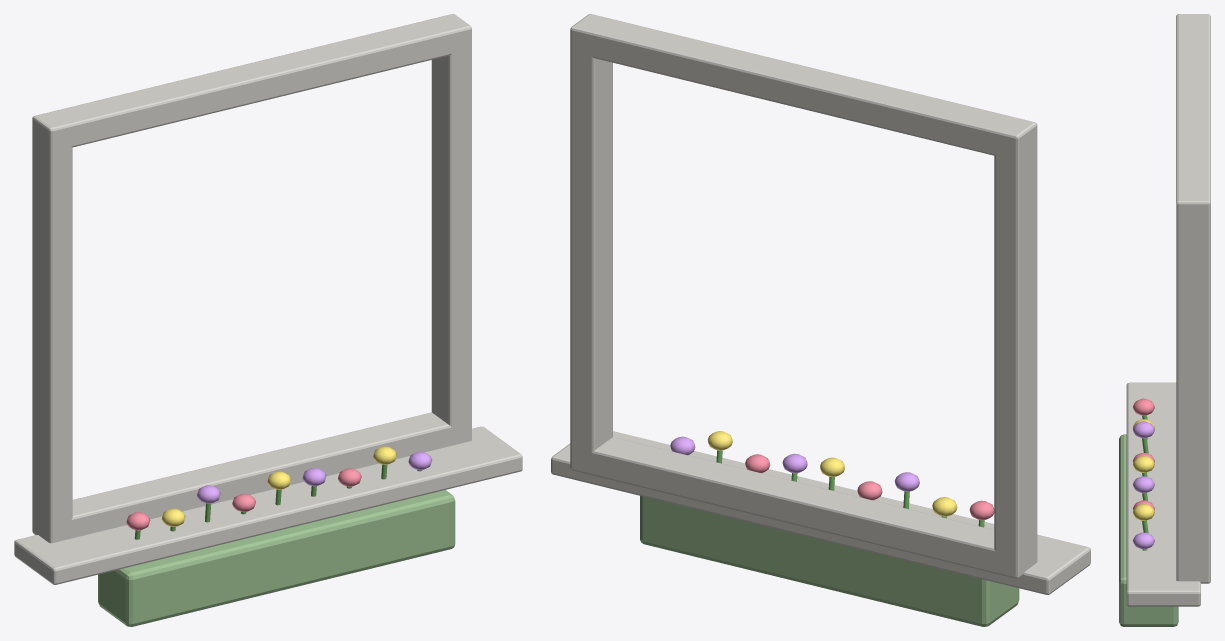
The model's file is window.glb.
The picture shows the model from 3 angles, left to right: view 1: azimuth 30°, elevation 25°; view 2: azimuth 150°, elevation 25°; view 3: azimuth 270°, elevation 25°; orthographic projection. The views are drawn at different scales.
Parts seen in each view (by area): view 1: window; view 2: window; view 3: window.
Boxes of the visible parts, box(x1,y1,x2,y2) form: window: box(14, 14, 522, 626); window: box(551, 14, 1090, 626); window: box(1119, 14, 1210, 626).
Size of the model in its own units: 2 by 1.99 by 0.37.
